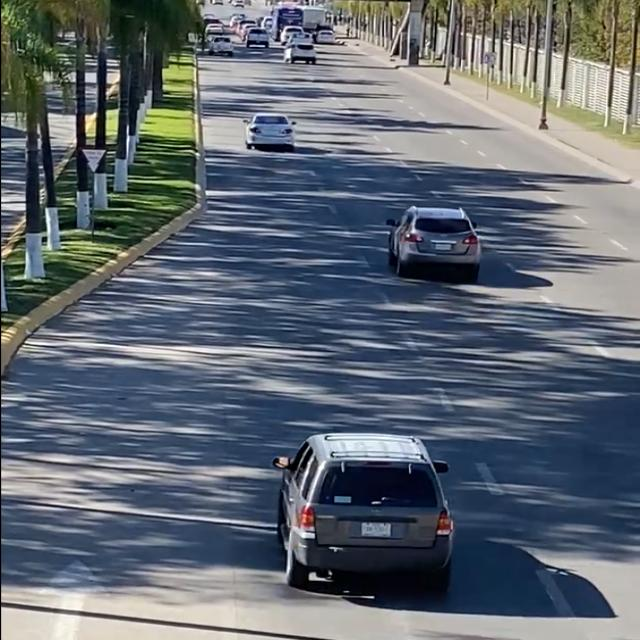Auto: (272, 430, 452, 585), (386, 208, 481, 282), (243, 114, 295, 148)
